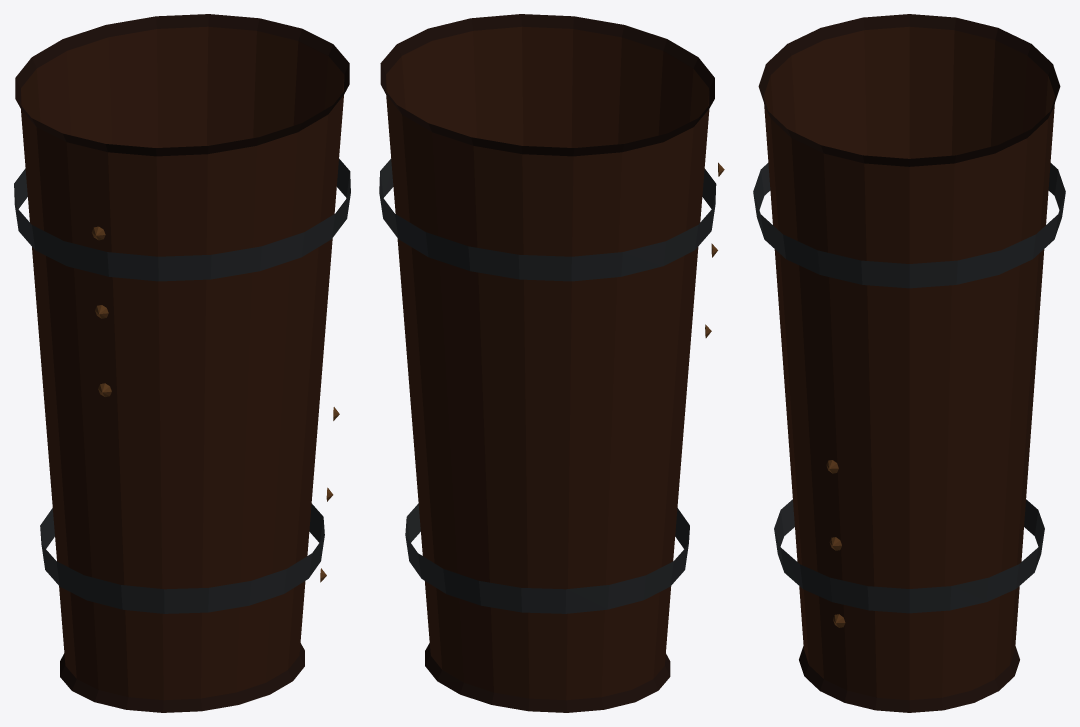
3 renders of one model, left to right at view 1: azimuth 30°, elevation 25°; view 2: azimuth 150°, elevation 25°; view 3: azimuth 270°, elevation 25°, orthographic.
Size of the model in its own units: 0.18 by 0.332 by 0.1641.
